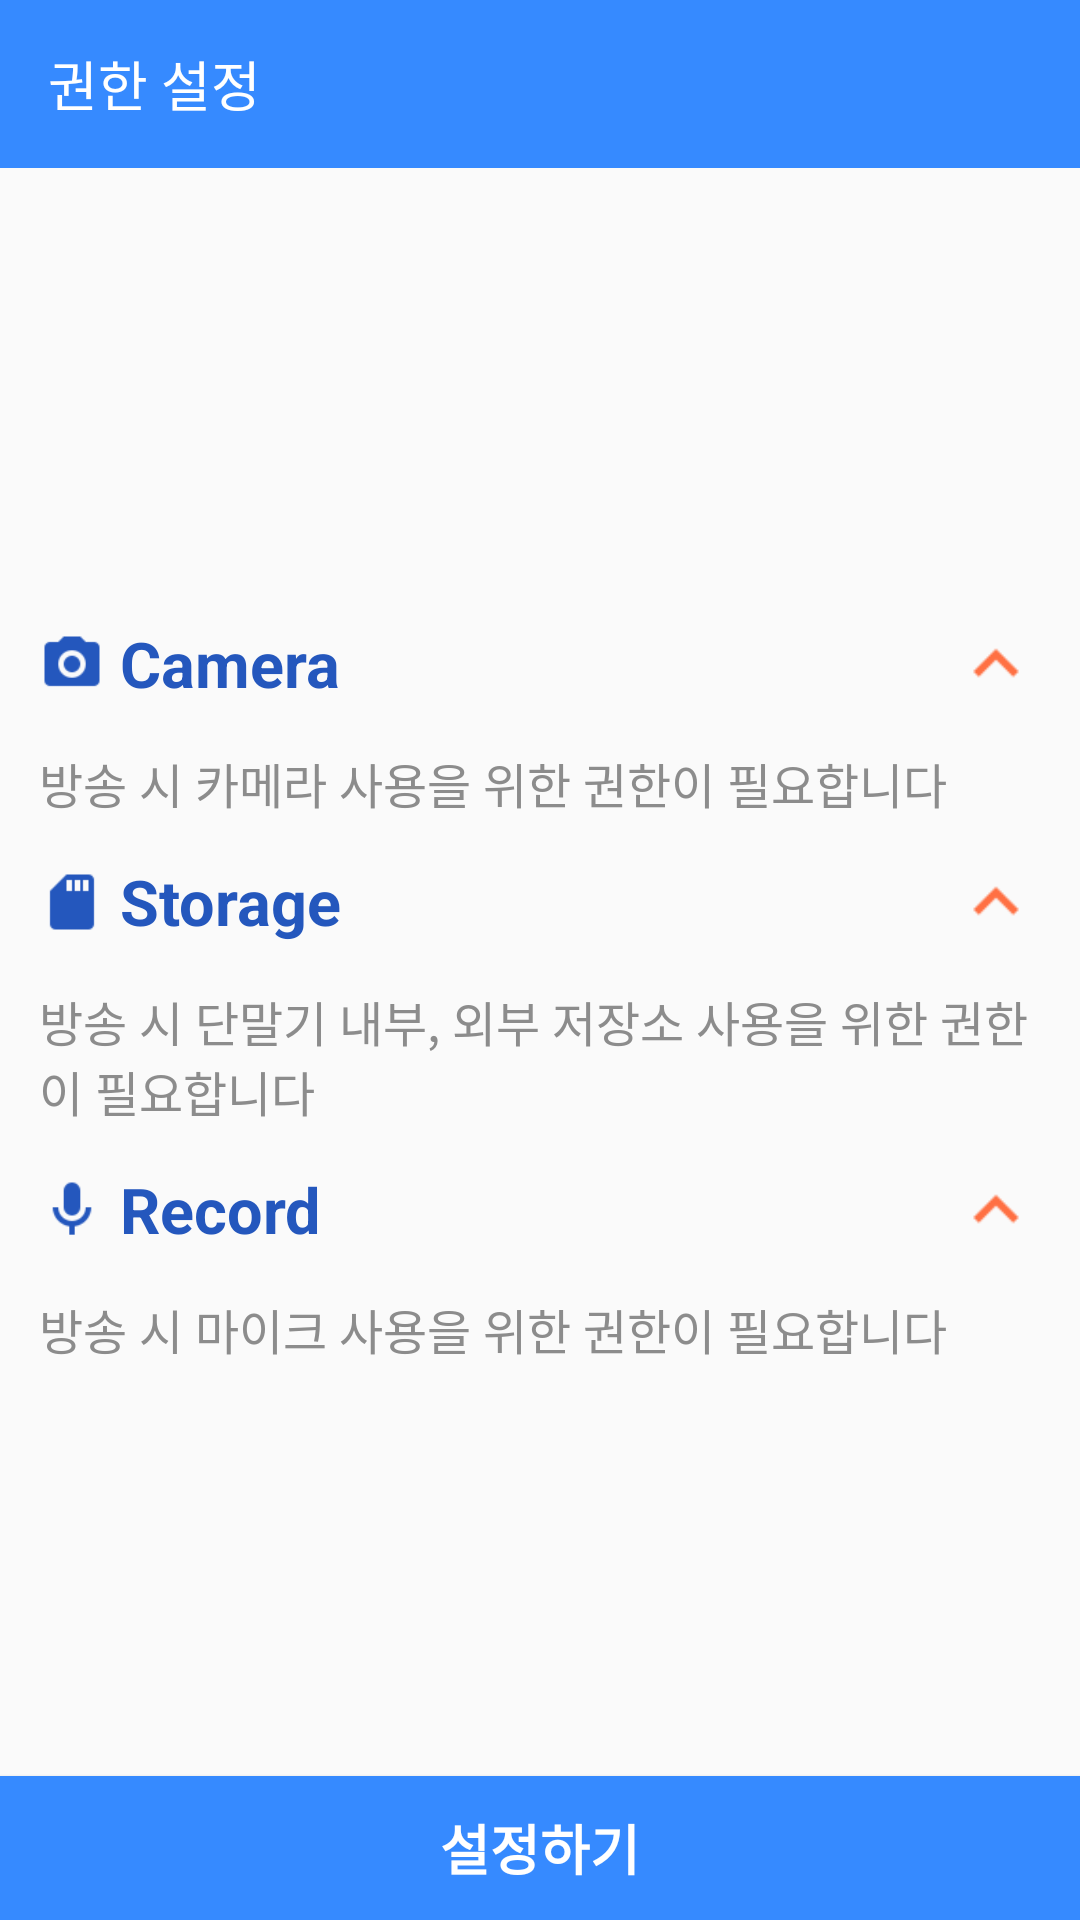

Named icons in this screenshot (1080 × 1920) and their bounding boxes, [x1=x1, y1=y1, x2=x2, y2=y2]:
chevron up: [x1=973, y1=649, x2=1019, y2=677], [x1=973, y1=887, x2=1019, y2=915], [x1=973, y1=1195, x2=1019, y2=1223]
